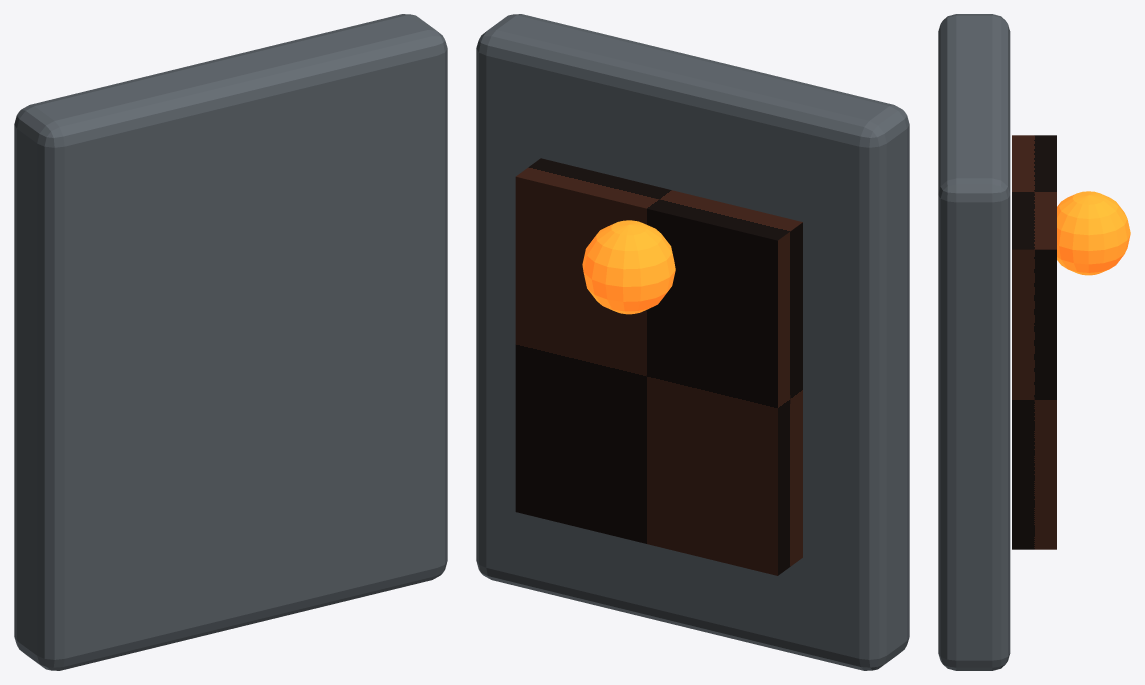
The model's file is bridge-probe.gltf.
3 renders of one model, left to right at view 1: azimuth 30°, elevation 25°; view 2: azimuth 150°, elevation 25°; view 3: azimuth 270°, elevation 25°, orthographic. The views are drawn at different scales.
Visible parts, largest first — view 1: ProbePlate; view 2: ProbePlate, ProbeTexturedPanel, ProbeEnergyCore; view 3: ProbePlate, ProbeTexturedPanel, ProbeEnergyCore.
Boxes of the visible parts, x1,y1,x2,y2 form: ProbePlate: (14,14,447,670); ProbePlate: (476,14,909,670); ProbeTexturedPanel: (515,158,802,575); ProbeEnergyCore: (582,220,675,314); ProbePlate: (938,14,1010,670); ProbeTexturedPanel: (1012,135,1056,549); ProbeEnergyCore: (1057,191,1130,275).
Size of the model in its own units: 1.4 by 1.8 by 0.64.
Materials: 3 (1 with a texture image).
